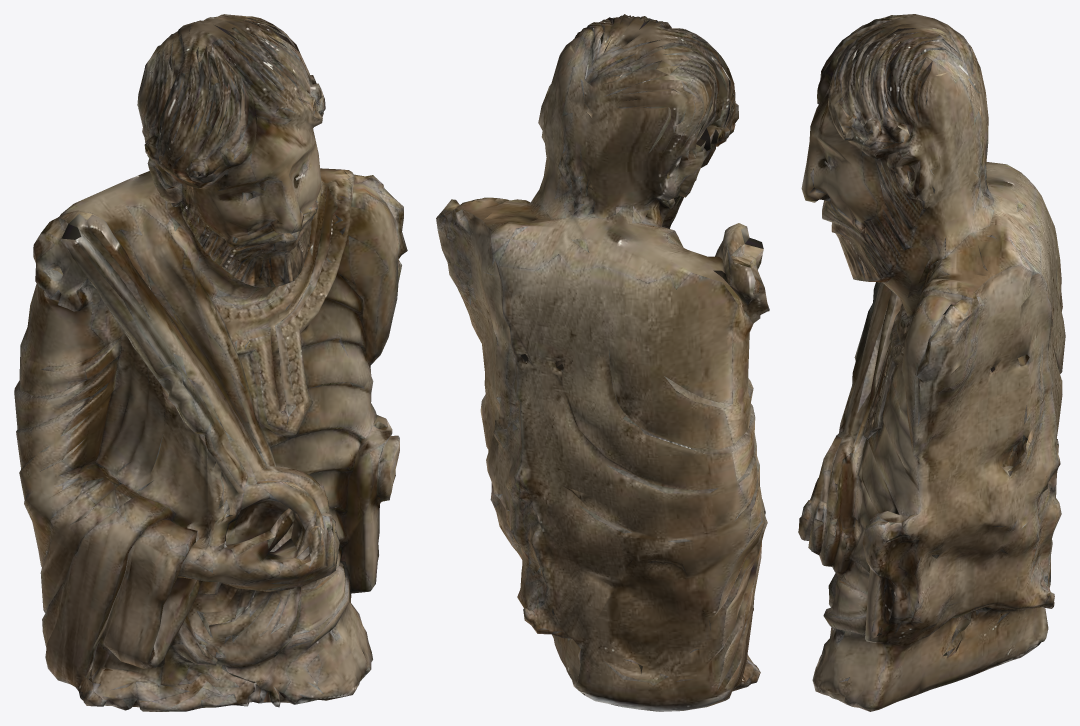
Rendered from saint-peter-b-10k-512.glb.
3 renders of one model, left to right at view 1: azimuth 30°, elevation 25°; view 2: azimuth 150°, elevation 25°; view 3: azimuth 270°, elevation 25°, orthographic. The views are drawn at different scales.
Visible parts, largest first — view 1: Mesh; view 2: Mesh; view 3: Mesh.
Boxes of the visible parts, x1=… form: Mesh: x1=14, y1=14, x2=407, y2=711; Mesh: x1=436, y1=14, x2=769, y2=711; Mesh: x1=798, y1=14, x2=1065, y2=711.
Size of the model in its own units: 0.4327 by 0.761 by 0.2924.
Materials: 1 (1 with a texture image).
